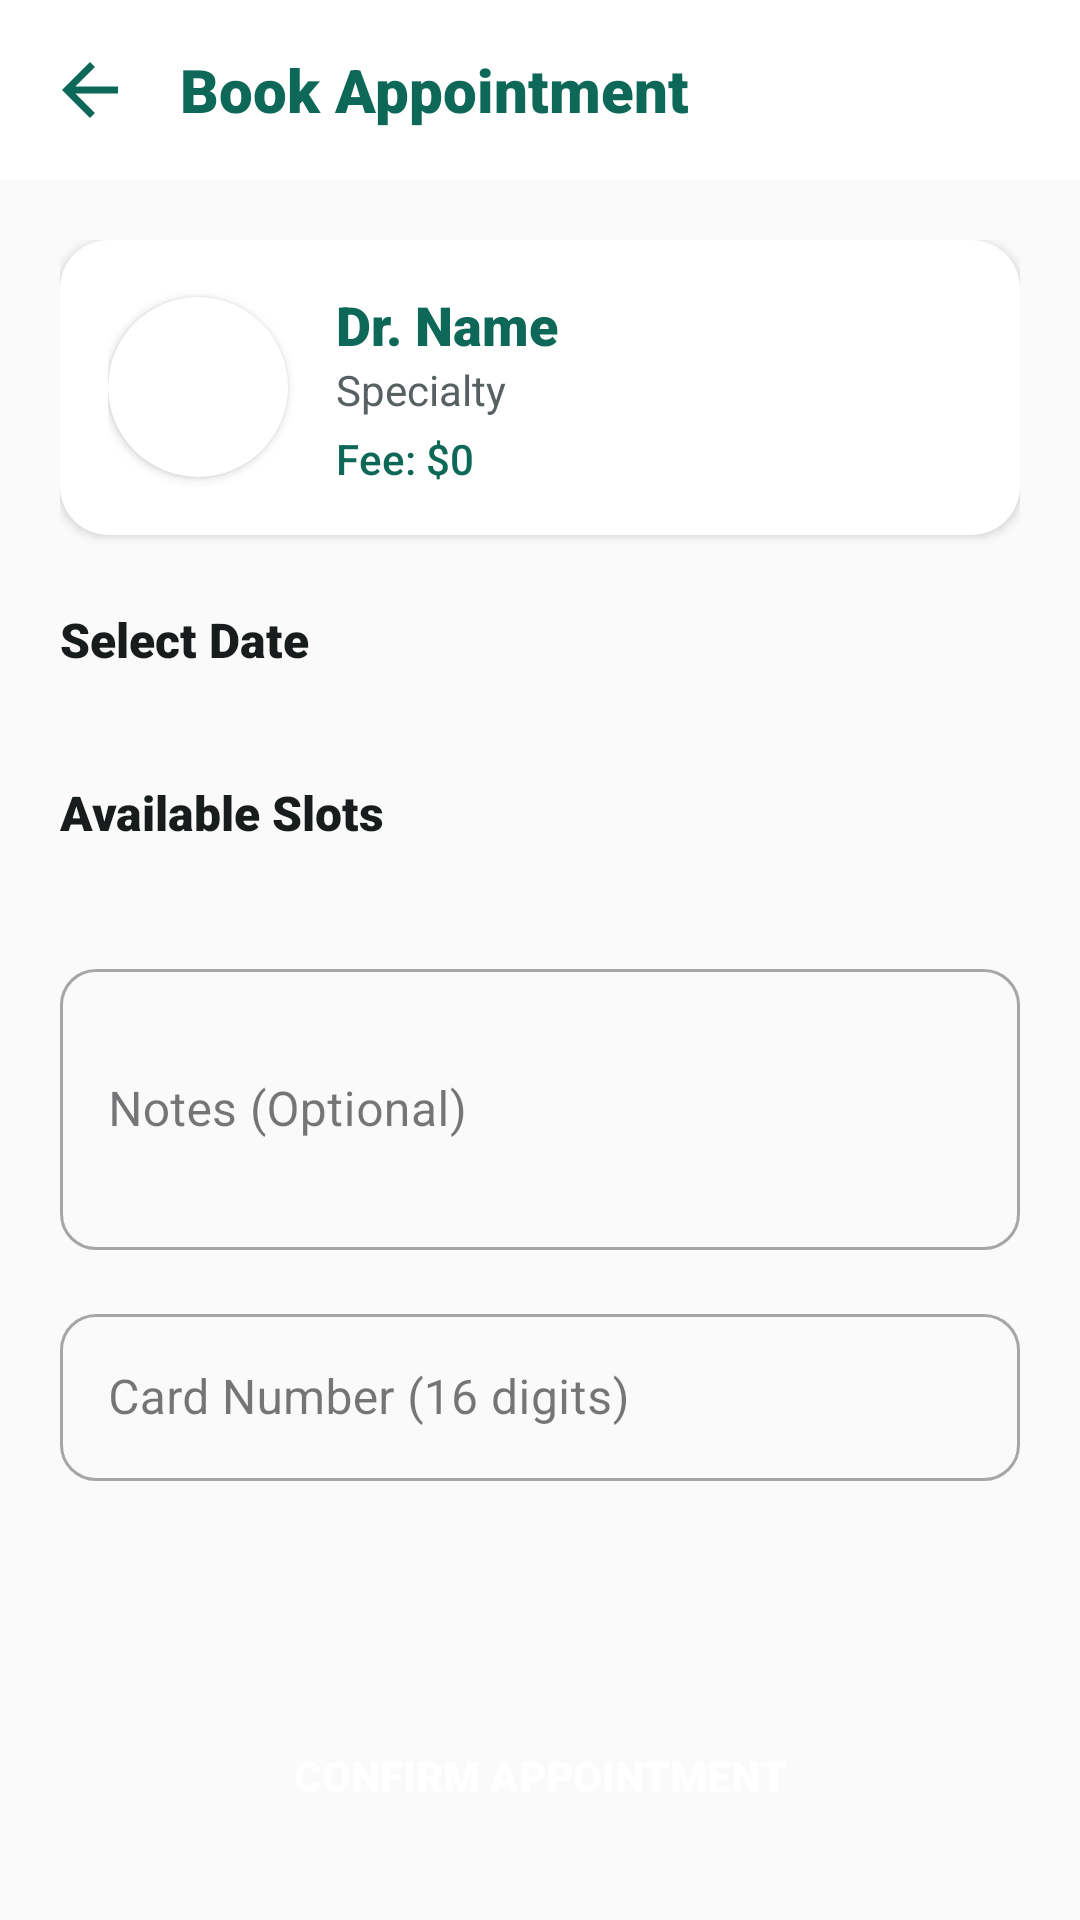

Icon click points for this 1080*1920 phone screenshot, format (x=x, y=y):
back: (x=90, y=90)
